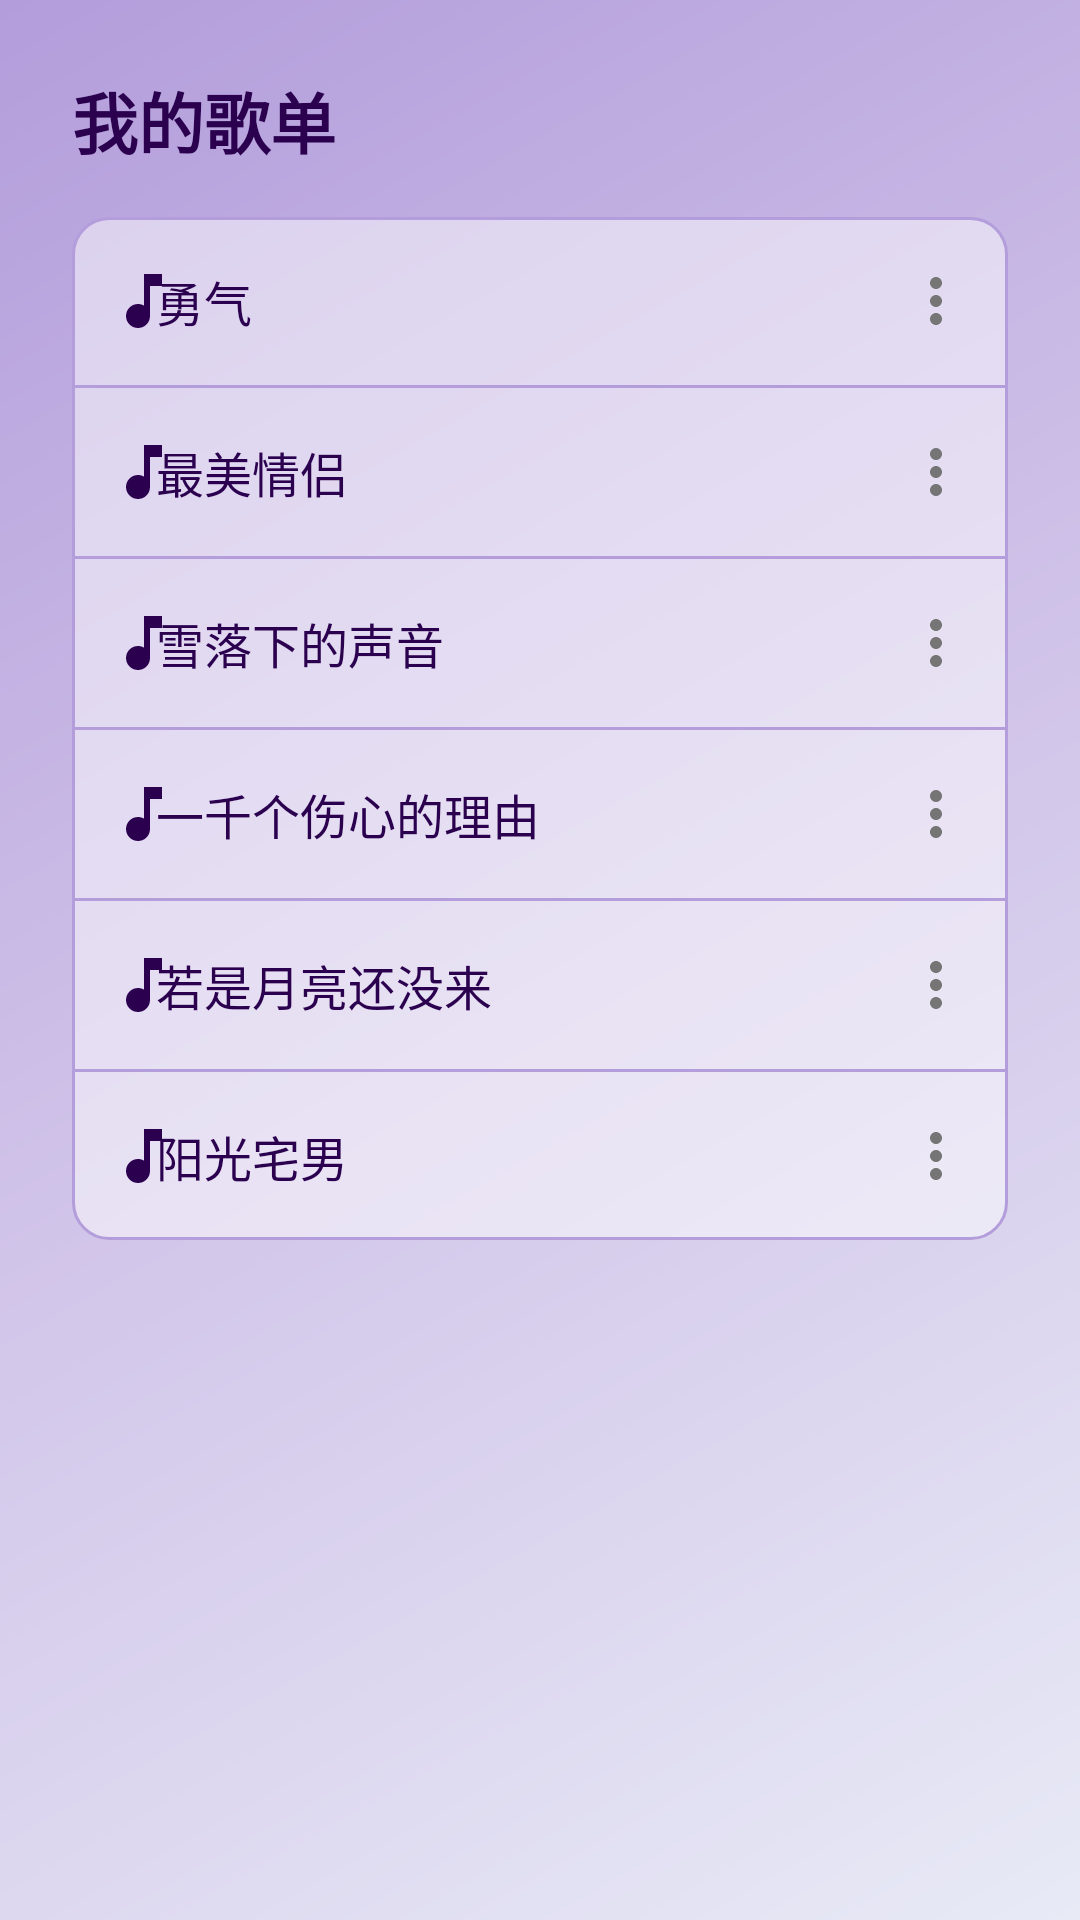

Screen size 1080w x 1920h. Icon name, then its center in pixels as (x=x, y=y):
more vert: (x=936, y=301), (x=936, y=472), (x=936, y=643), (x=936, y=814), (x=936, y=985), (x=936, y=1156)
music: (x=153, y=301), (x=144, y=472), (x=153, y=643), (x=144, y=814), (x=153, y=985), (x=151, y=1156)
